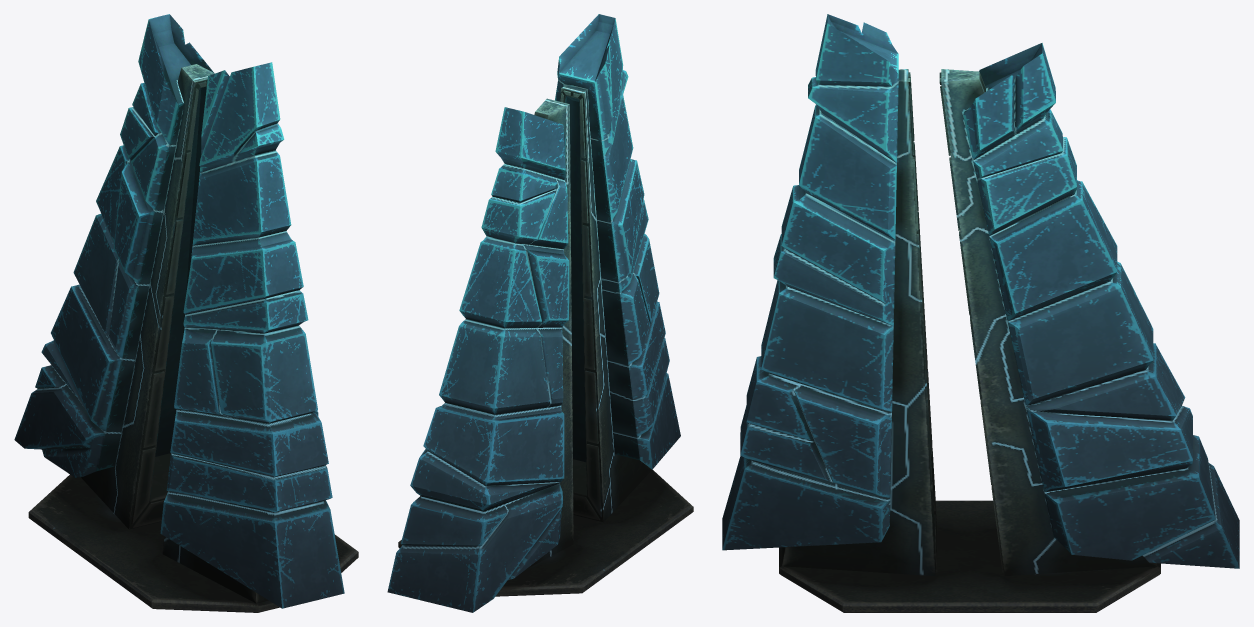
File: MiniBossPylon.fbx
3 views of the same model, side by side, from view 1: azimuth 30°, elevation 25°; view 2: azimuth 150°, elevation 25°; view 3: azimuth 270°, elevation 25° (orthographic). The views are drawn at different scales.
Visible parts, largest first — view 1: Elite_Beacon; view 2: Elite_Beacon; view 3: Elite_Beacon.
Boxes of the visible parts, left/top/right/bottom form: Elite_Beacon: left=14, top=14, right=358, bottom=612; Elite_Beacon: left=387, top=14, right=693, bottom=612; Elite_Beacon: left=722, top=14, right=1239, bottom=612.
Bounding box in the file's own units: 24.71 × 59.95 × 51.77.
